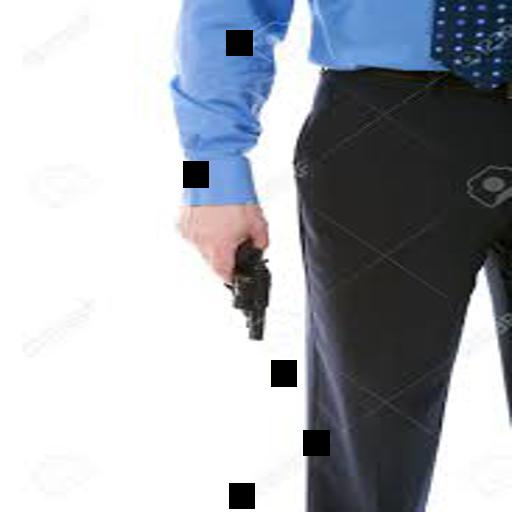Handgun: (203, 231, 278, 339)
